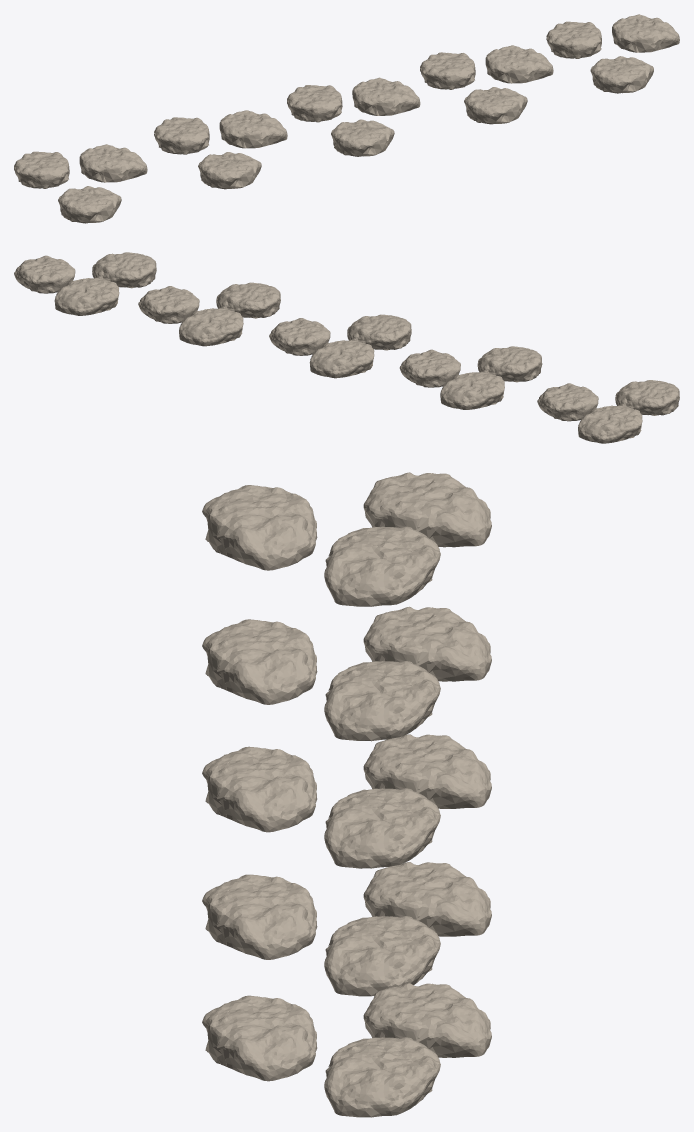
The model's file is nuggets2.dae.
3 views of the same model, one above another, from view 1: azimuth 30°, elevation 25°; view 2: azimuth 150°, elevation 25°; view 3: azimuth 270°, elevation 25° (orthographic). The views are drawn at different scales.
Parts seen in each view (by area): view 1: flat bottom nugget.005; view 2: flat bottom nugget.005; view 3: flat bottom nugget.005.
Part boxes in pixels (x1=…): flat bottom nugget.005: x1=14, y1=14, x2=679, y2=223; flat bottom nugget.005: x1=14, y1=252, x2=679, y2=443; flat bottom nugget.005: x1=202, y1=472, x2=491, y2=1117.
Bounding box in the file's own units: 0.8552 × 0.1694 × 0.029.
